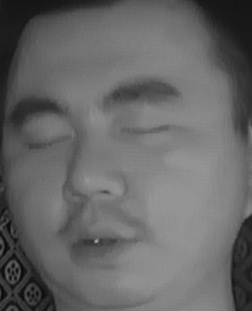blink: (117, 110, 169, 151), (23, 123, 72, 159)
mouth: (59, 211, 142, 266)
